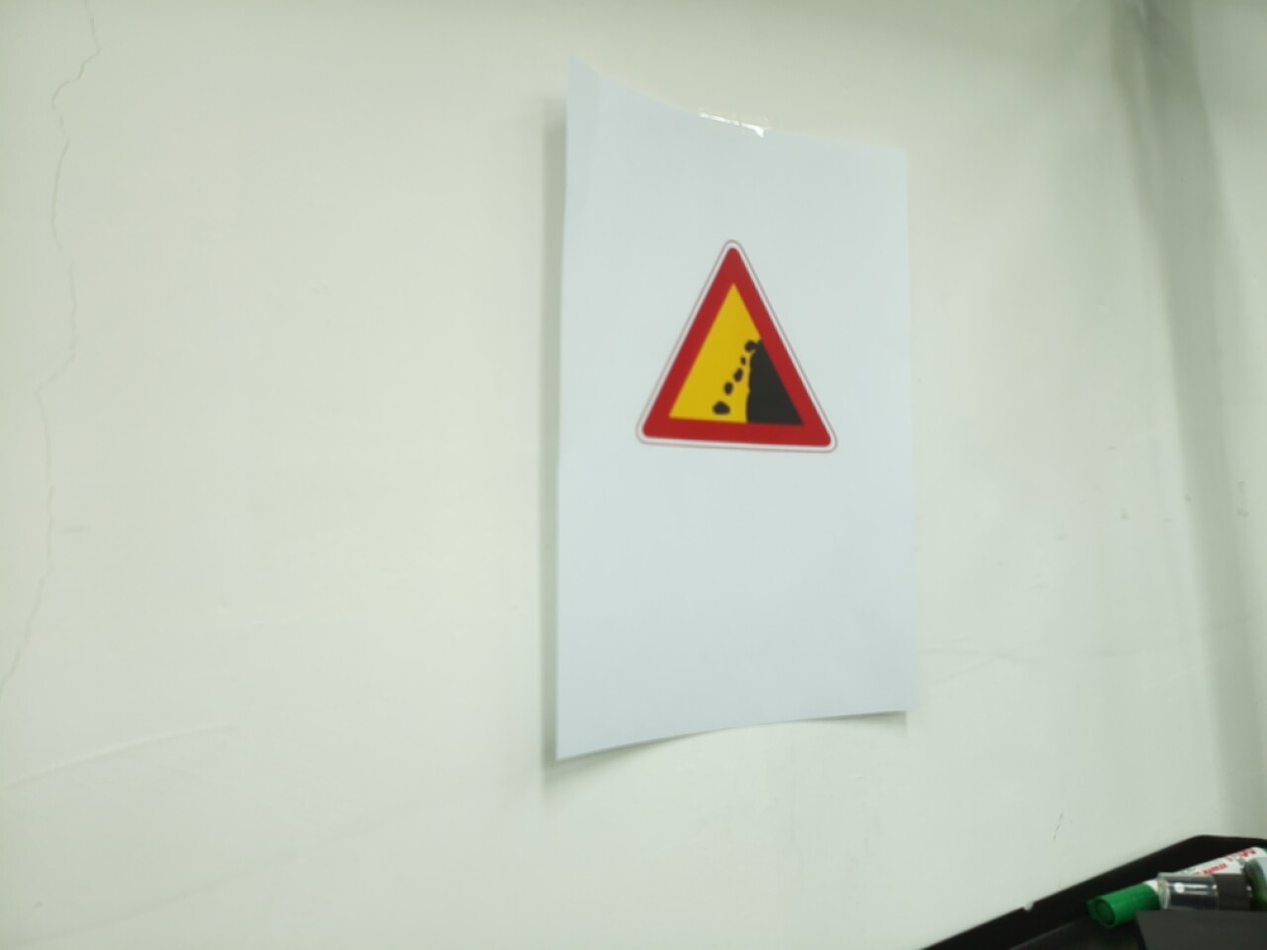falling_rocks: (635, 239, 838, 455)
